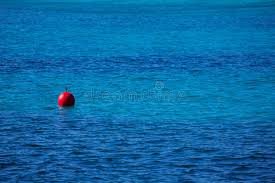buoy: (58, 91, 75, 107)
